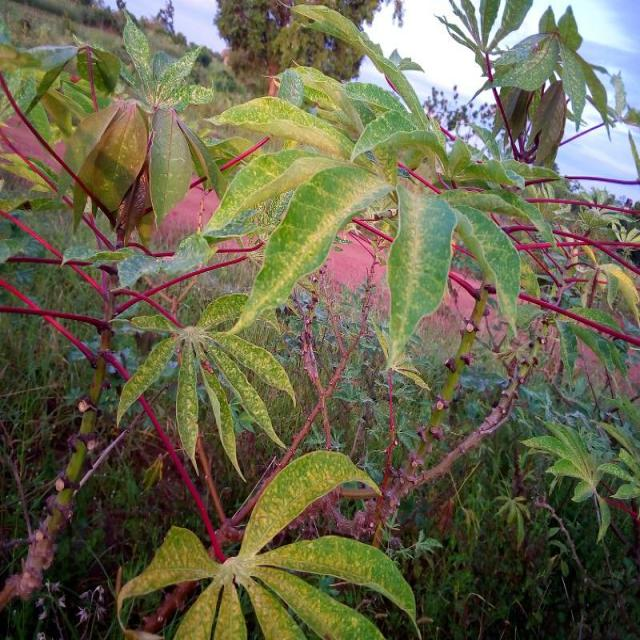cassava leaf: (116, 448, 420, 638), (114, 289, 296, 481), (223, 162, 394, 337), (386, 180, 456, 369), (61, 97, 149, 233), (446, 199, 520, 338)
